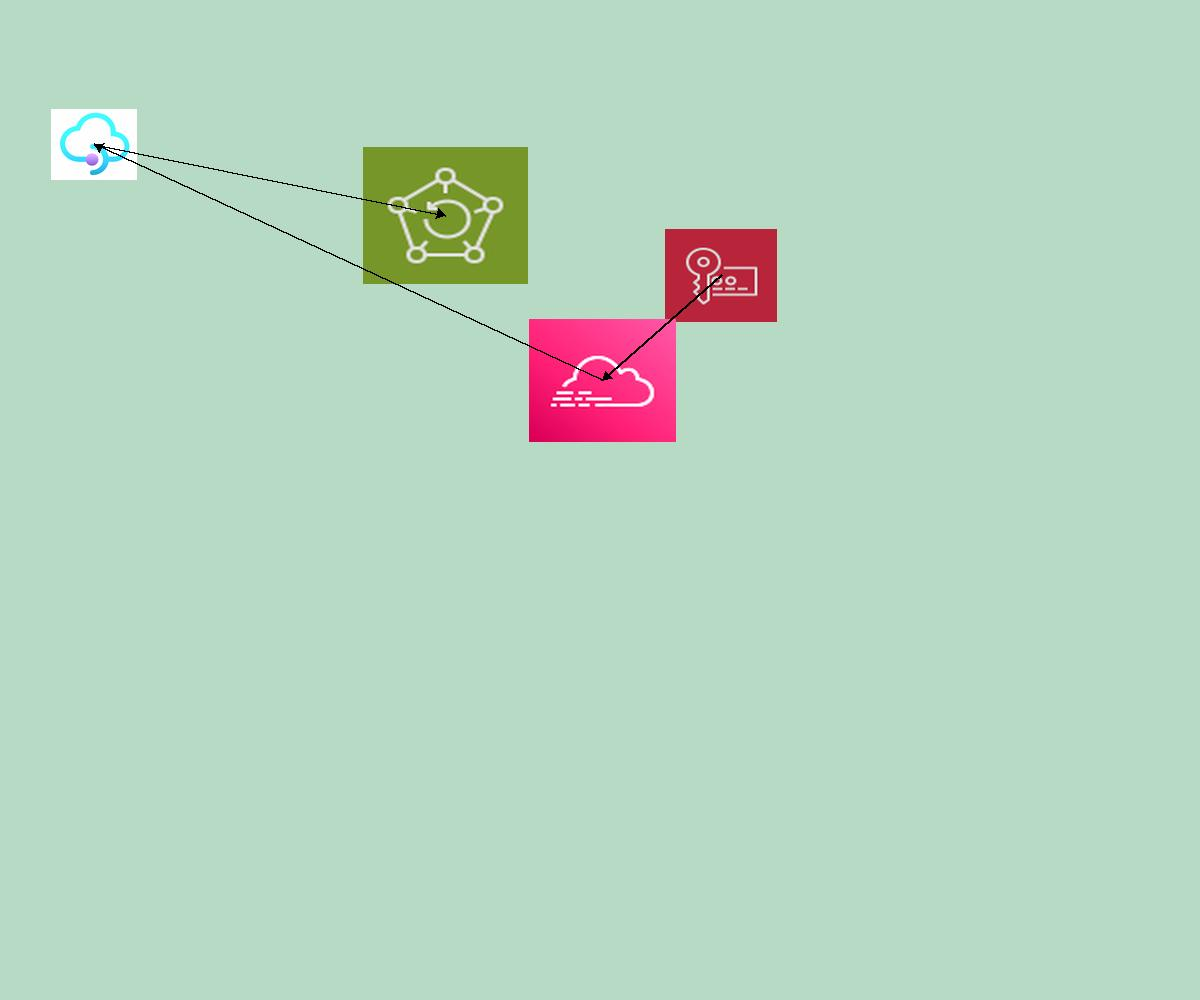AWS-Backup: (363, 147, 528, 284)
AWS-CloudTrail: (529, 319, 676, 442)
AWS-Key-Management-Service: (665, 229, 777, 322)
Azure_api_gateway: (51, 109, 137, 180)
